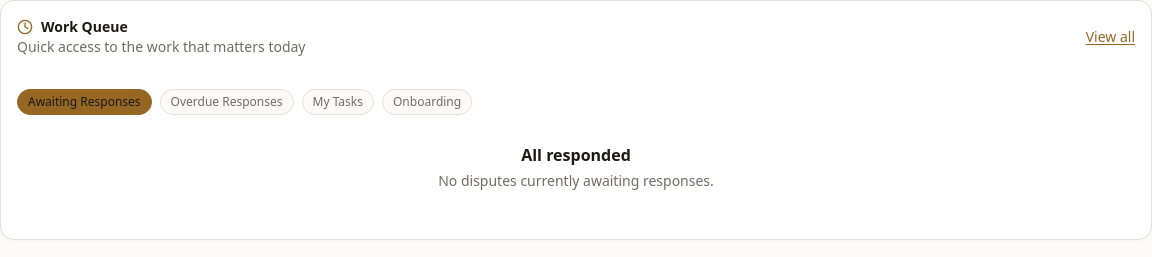
Test: WorkQueue › Empty States › should show empty state for overdue responses
Click the button "Overdue Responses" at (227, 102), box [160, 89, 294, 115]
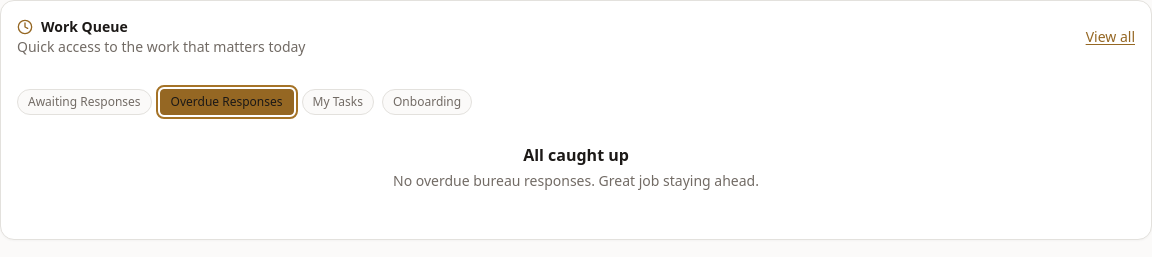
expect the text "No overdue bureau responses. Great job staying ahead." is shown: met, box [393, 171, 759, 191]
